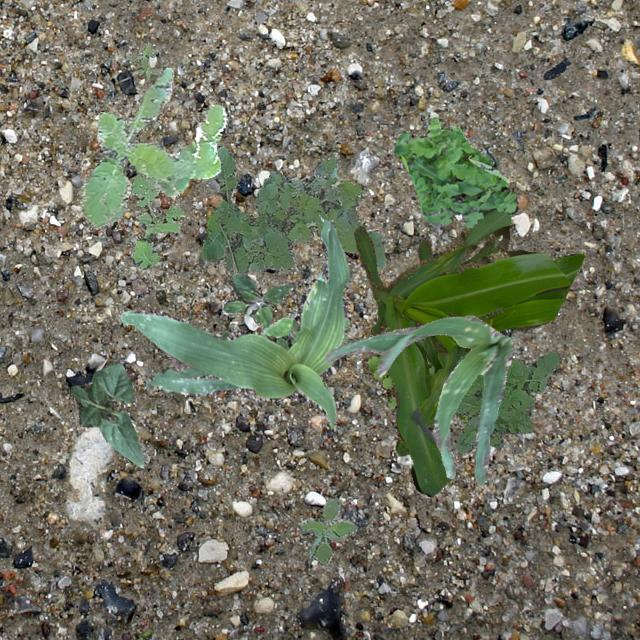crop: (352, 207, 570, 496), (120, 216, 350, 426), (394, 230, 584, 454), (324, 314, 512, 483), (70, 362, 146, 466), (263, 316, 355, 344)
weed: (200, 144, 384, 274), (77, 66, 226, 226), (416, 338, 560, 452), (392, 116, 516, 226), (362, 352, 466, 422), (130, 172, 184, 268), (222, 272, 292, 326), (299, 498, 356, 564), (126, 42, 162, 80)
